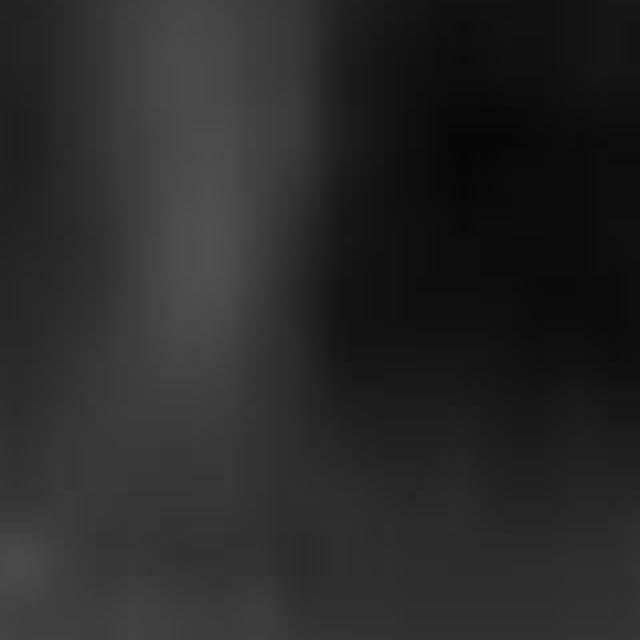person: (53, 1, 317, 497)
